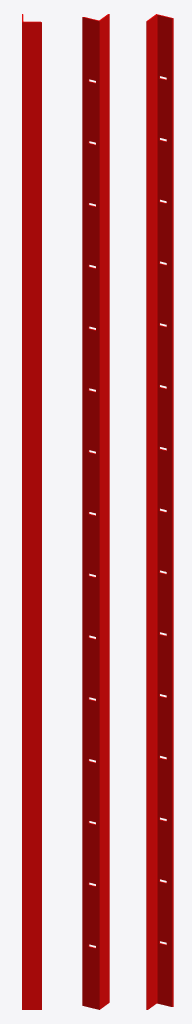
The model's file is SP-FAX8.glb.
3 views of the same model, side by side, from view 1: azimuth 90°, elevation 25°; view 2: azimuth 150°, elevation 25°; view 3: azimuth 330°, elevation 25° (orthographic).
Parts seen in each view (by area): view 1: sp-FAx8; view 2: sp-FAx8; view 3: sp-FAx8.
Boxes of the visible parts, x1,y1,x2,y2 form: sp-FAx8: (22, 14, 41, 1009); sp-FAx8: (82, 14, 109, 1009); sp-FAx8: (146, 14, 173, 1009).
Size of the model in its own units: 1.75 by 96 by 1.75.
